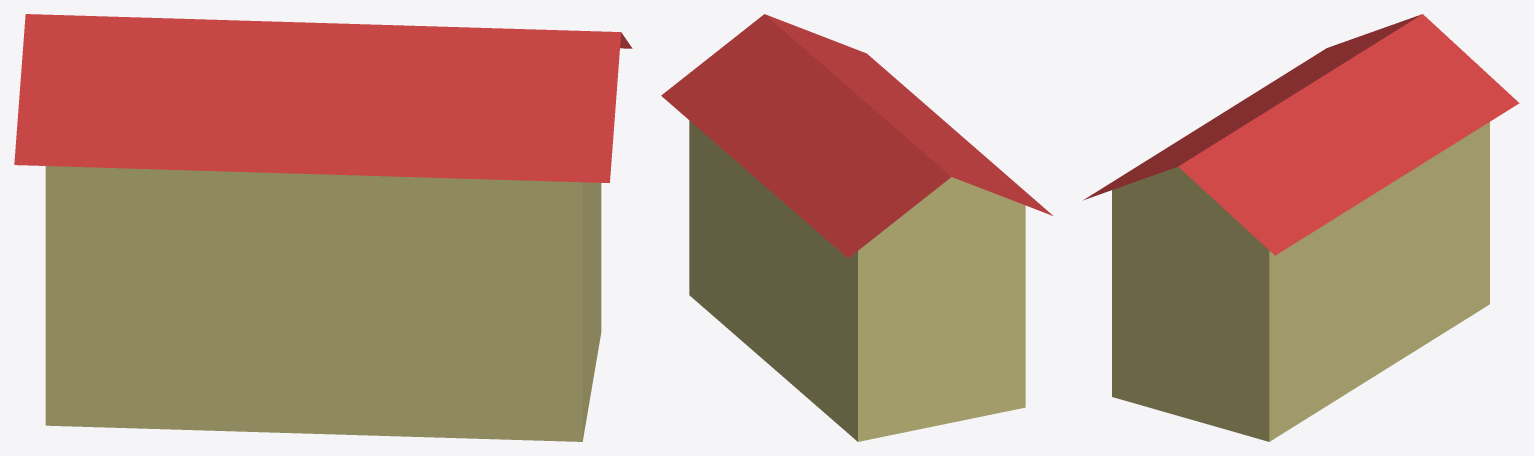
3 renders of one model, left to right at view 1: azimuth 30°, elevation 25°; view 2: azimuth 150°, elevation 25°; view 3: azimuth 270°, elevation 25°, orthographic. The views are drawn at different scales.
Bounding box in the file's own units: 11.46 × 10.19 × 6.69.
